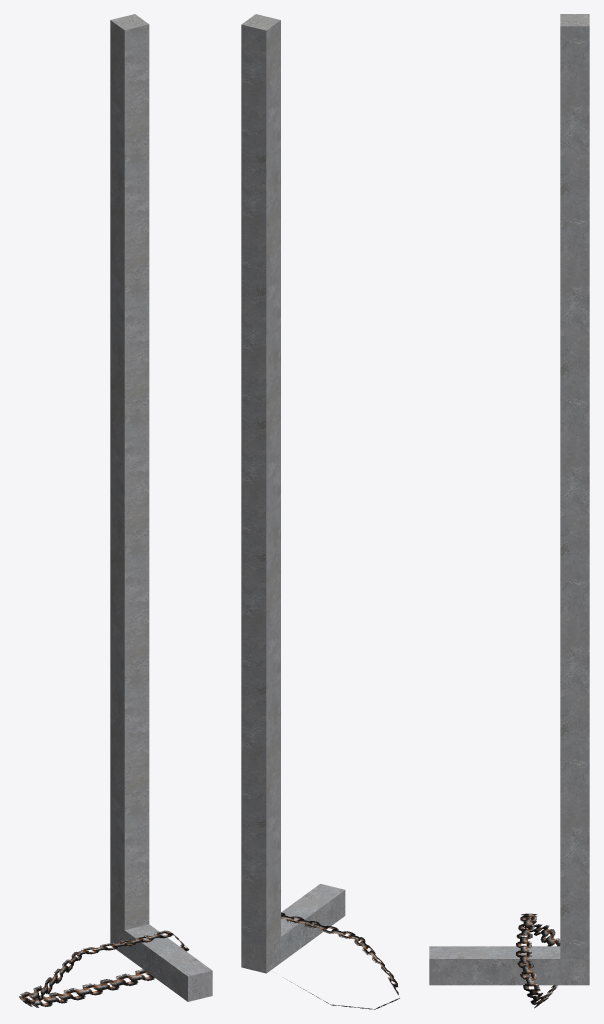
Rendered from Tubo_y_Cadenas.fbx.
The picture shows the model from 3 angles, left to right: view 1: azimuth 30°, elevation 25°; view 2: azimuth 150°, elevation 25°; view 3: azimuth 270°, elevation 25°; orthographic projection. The views are drawn at different scales.
Visible parts, largest first — view 1: Cube, Plane; view 2: Cube, Plane; view 3: Cube, Plane.
Boxes of the visible parts, bbox=[...] form: Cube: bbox=[110, 14, 212, 1001]; Plane: bbox=[19, 930, 189, 1007]; Cube: bbox=[241, 14, 345, 973]; Plane: bbox=[276, 912, 399, 1009]; Cube: bbox=[429, 14, 589, 985]; Plane: bbox=[516, 913, 560, 1008].
Size of the model in its own units: 64.16 by 366 by 53.66.
Materials: 2 (2 with a texture image).
